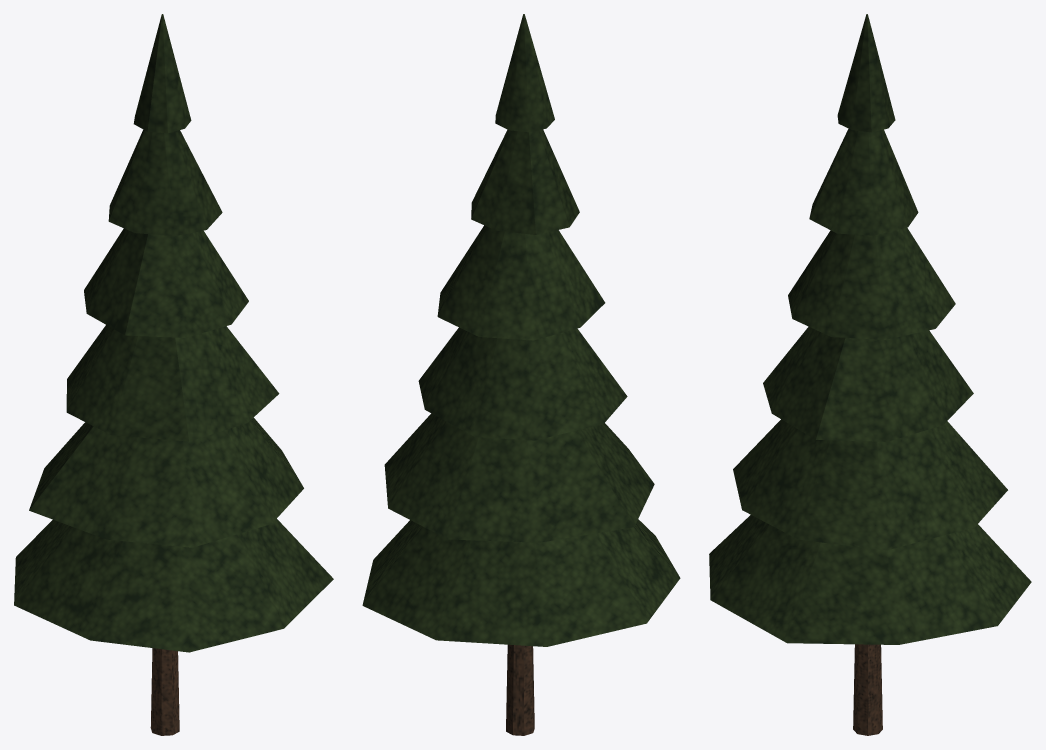
Rendered from SM_Tree_Pine_B_LOD1.glb.
3 views of the same model, side by side, from view 1: azimuth 30°, elevation 25°; view 2: azimuth 150°, elevation 25°; view 3: azimuth 270°, elevation 25° (orthographic).
Parts seen in each view (by area): view 1: SM_Tree_Pine_B_LOD1; view 2: SM_Tree_Pine_B_LOD1; view 3: SM_Tree_Pine_B_LOD1.
Part boxes in pixels (box(x1,y1,x2,y2)): SM_Tree_Pine_B_LOD1: box(14, 14, 333, 735); SM_Tree_Pine_B_LOD1: box(362, 14, 680, 735); SM_Tree_Pine_B_LOD1: box(709, 14, 1031, 735).
Size of the model in its own units: 7.93 by 20.06 by 8.22.
1 material, 1 textured.
